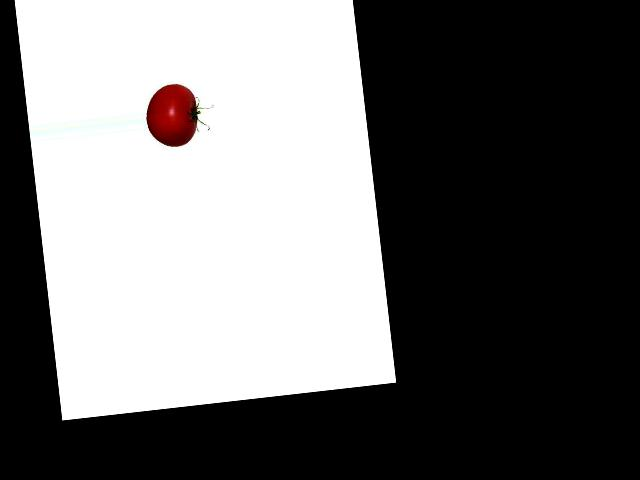tomato: (143, 82, 200, 148)
